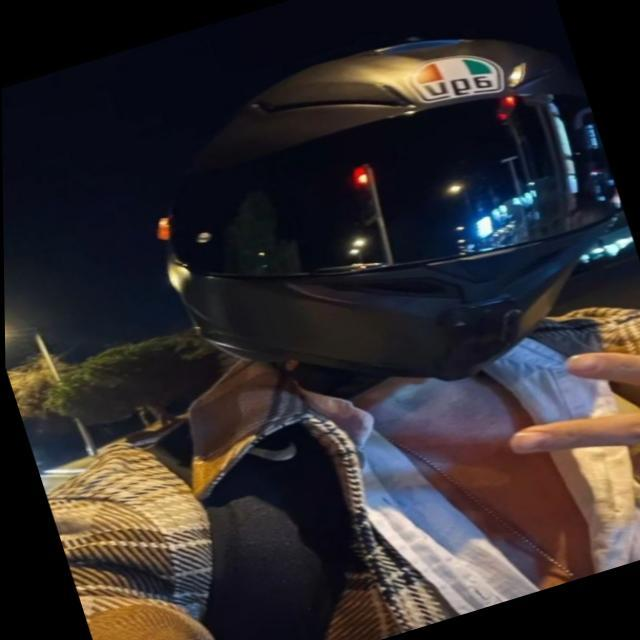Helmet: (146, 14, 632, 392)
